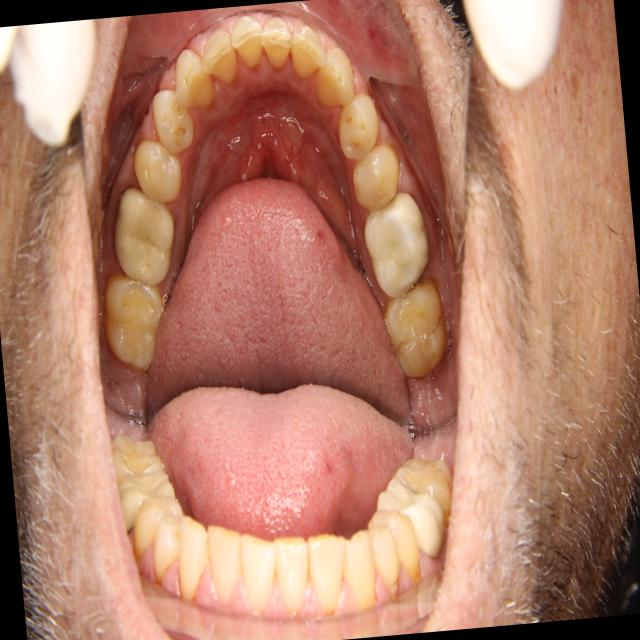tooth: (351, 179, 439, 302), (105, 174, 185, 291), (93, 265, 175, 379), (375, 271, 456, 385), (127, 132, 190, 212), (328, 88, 387, 168), (347, 141, 404, 218), (145, 81, 200, 157), (309, 35, 362, 113), (169, 41, 216, 113), (195, 22, 241, 89), (287, 21, 331, 84), (227, 9, 265, 77), (258, 11, 297, 77)
